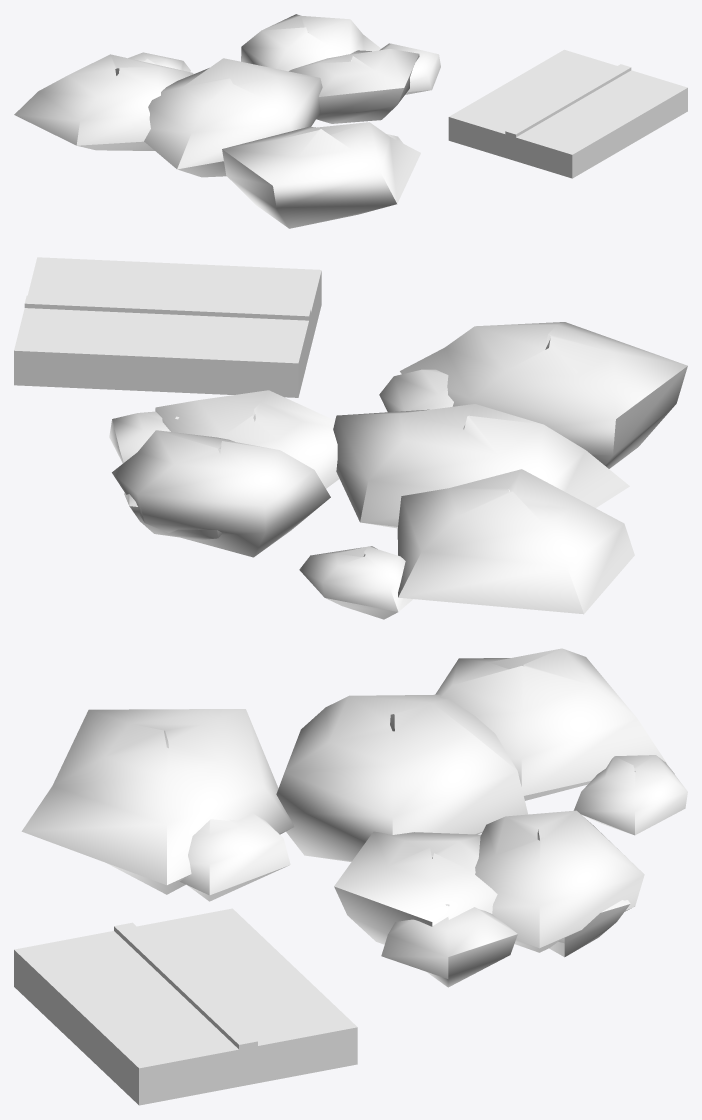
File: rubble.glb
The picture shows the model from 3 angles, top to bottom: view 1: azimuth 30°, elevation 25°; view 2: azimuth 150°, elevation 25°; view 3: azimuth 270°, elevation 25°; orthographic projection. The views are drawn at different scales.
Visible parts, largest first — view 1: Rubble; view 2: Rubble; view 3: Rubble.
Boxes of the visible parts, box(x1,y1,x2,y2) form: Rubble: box(14, 14, 687, 228); Rubble: box(14, 257, 687, 619); Rubble: box(14, 648, 687, 1105).
Bounding box in the file's own units: 2.77 × 0.4059 × 1.97.
Materials: 1 (1 with a texture image).
